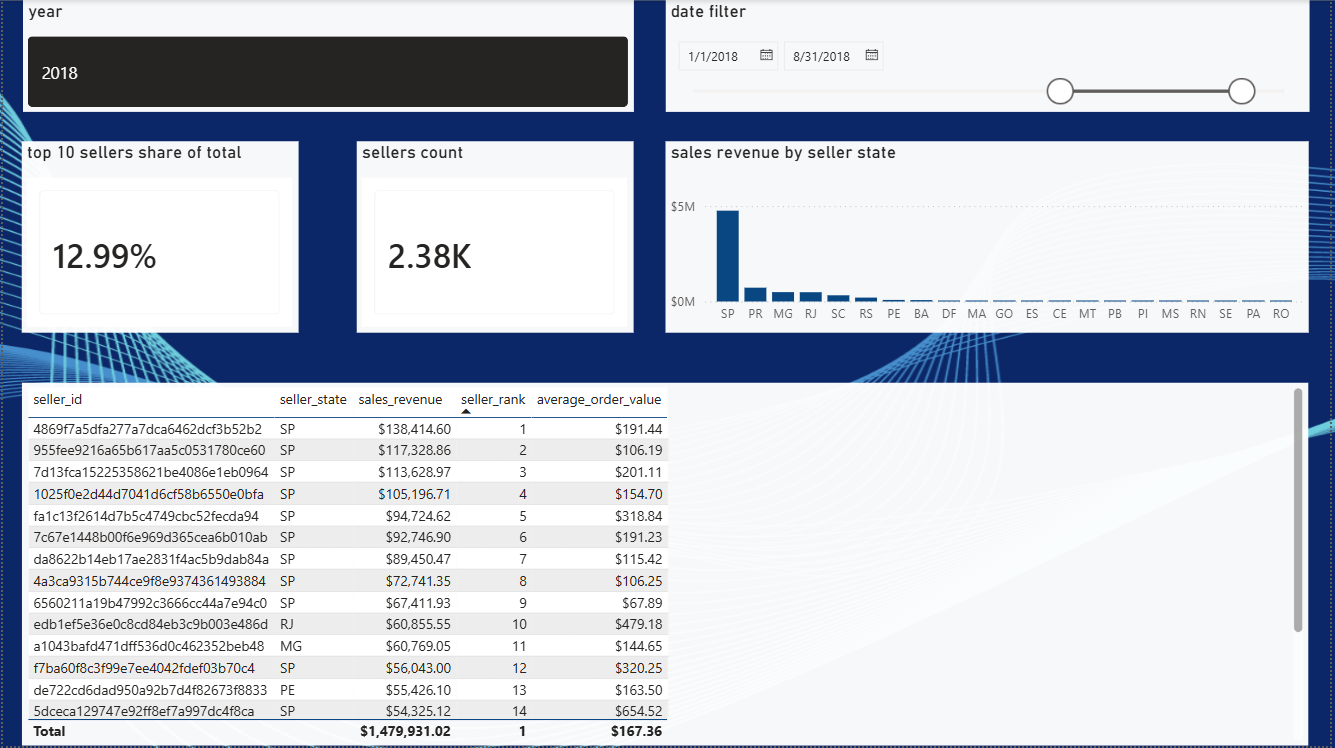

What the dashboard file says about the page in this screenshot:
{"tool":"powerbi","page":{"name":"sellers","canvas":[1280,720],"ordinal":2},"visuals":[{"type":"advancedSlicerVisual","fields":{"Values":["mart dim_date.year"]},"box":[19.3,0,589.2,108.3],"z":0},{"type":"slicer","title":"date filter","fields":{"Values":["mart dim_date.date_key"]},"box":[639.5,0,621.4,108.3],"z":1000},{"type":"cardVisual","title":"top 10 sellers share of total","fields":{"Data":["mart dim_sellers.top10_seller_share"]},"box":[18.6,136.6,266.9,184.7],"z":2000},{"type":"cardVisual","title":"sellers count","fields":{"Data":["mart fact_order_items.distinct_seller_count"]},"box":[341.4,136.6,266.9,184.7],"z":3000},{"type":"columnChart","title":"sales revenue by seller state","fields":{"Category":["mart dim_sellers.seller_state"],"Y":["mart fact_order_items.sales_revenue"]},"box":[639.4,136.6,620.8,184.7],"z":4000},{"type":"tableEx","fields":{"Values":["mart dim_sellers.seller_id","mart dim_sellers.seller_state","mart fact_order_items.sales_revenue","mart fact_order_items.seller_rank","mart fact_order_items.average_order_value"]},"box":[18.6,369.4,1241.5,350.7],"z":5000}]}

Visuals, with their boxes in screenshot pixels (x1, y1, x2, y2), scaled from the page's 1280x720 canvas onto the 1335x748 screenshot:
advancedSlicerVisual - mart dim_date.year: <bbox>20, 0, 635, 113</bbox>
"date filter" slicer: <bbox>667, 0, 1315, 113</bbox>
"top 10 sellers share of total" cardVisual: <bbox>19, 142, 298, 334</bbox>
"sellers count" cardVisual: <bbox>356, 142, 634, 334</bbox>
"sales revenue by seller state" columnChart: <bbox>667, 142, 1314, 334</bbox>
tableEx - mart dim_sellers.seller_id x mart dim_sellers.seller_state: <bbox>19, 384, 1314, 747</bbox>
